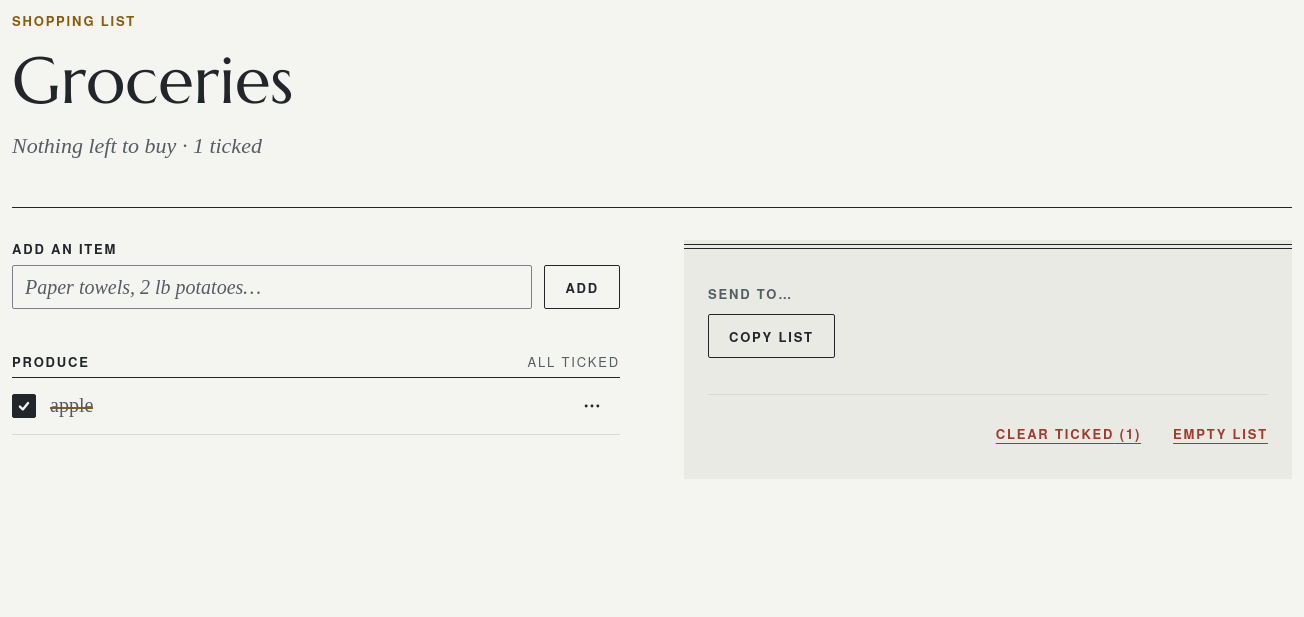
Test: focus › rests on the list area after Clear ticked, whose button then switches itself off
This screenshot has width=1304, height=617.
Check: the heading "Produce" is shown, box [12,353,90,371]
Click the button "Clear ticked (1)". click: (1068,433)
box: [996,411,1141,455]
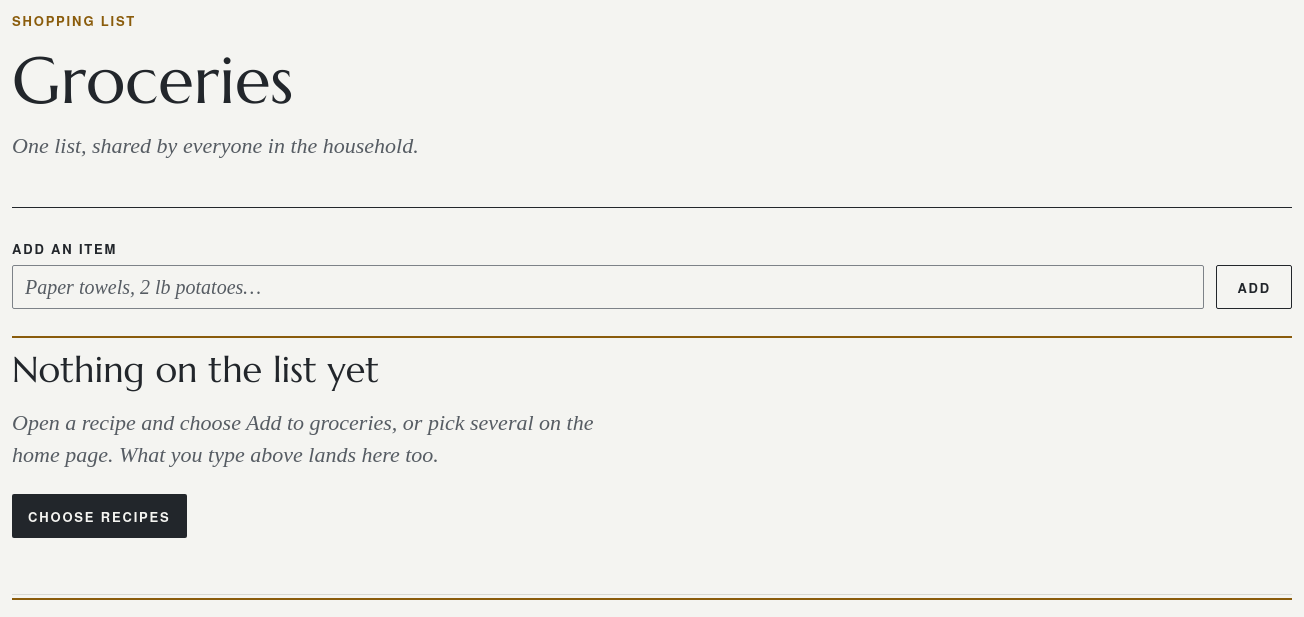
Check: the button "apple" is gone
